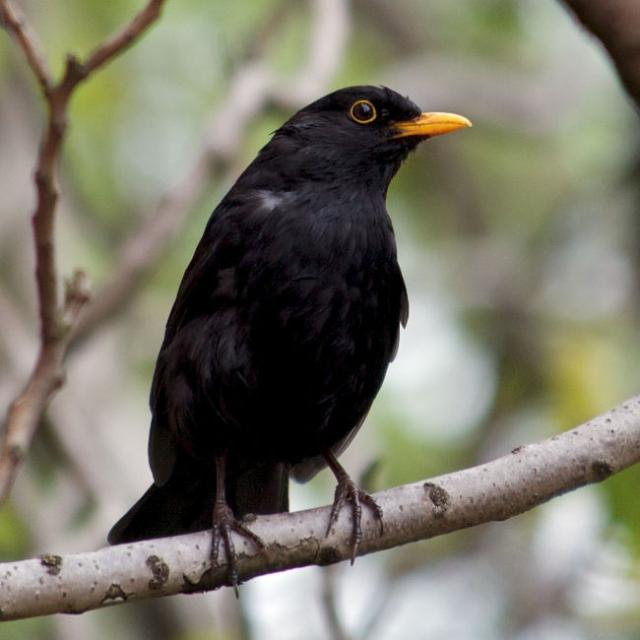bird: (130, 70, 487, 555)
